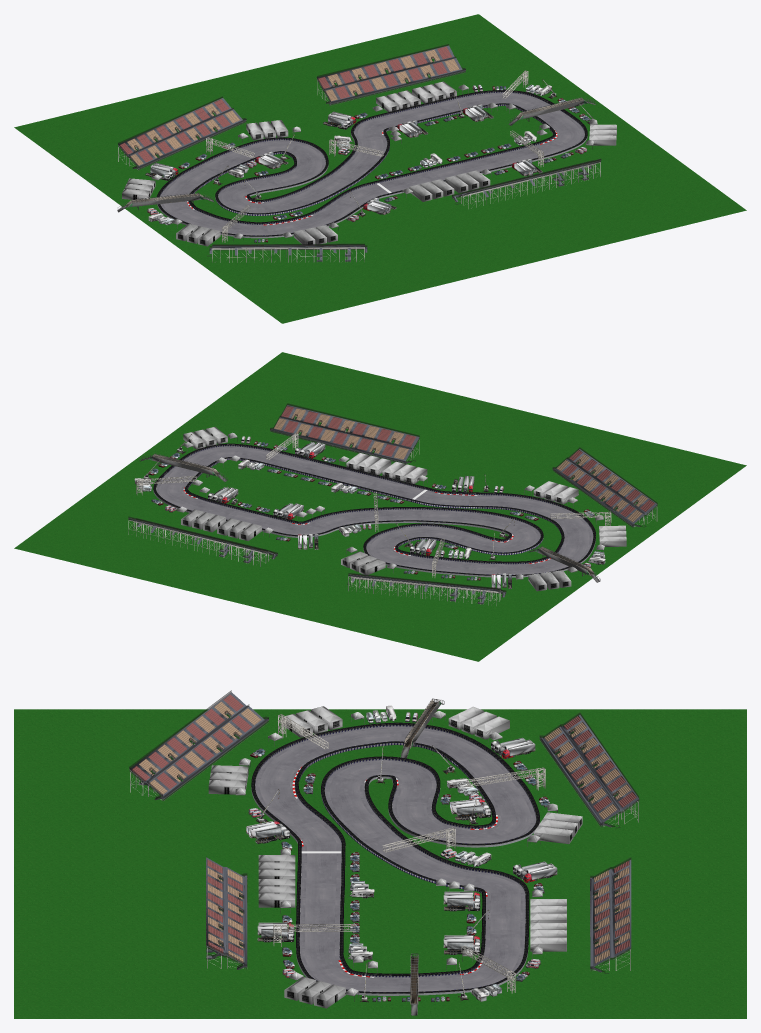
The model's file is track.glb.
The picture shows the model from 3 angles, top to bottom: view 1: azimuth 30°, elevation 25°; view 2: azimuth 150°, elevation 25°; view 3: azimuth 270°, elevation 25°; orthographic projection. The views are drawn at different scales.
Visible parts, largest first — view 1: Object_9, Object_5, Object_13, Object_7, Object_15, Object_2, Object_10, Object_14, Object_12, Object_6, Object_8; view 2: Object_9, Object_5, Object_13, Object_7, Object_15, Object_10, Object_2, Object_14, Object_12, Object_6, Object_8; view 3: Object_9, Object_5, Object_13, Object_7, Object_10, Object_15, Object_2, Object_12, Object_6, Object_8, Object_16, Object_3 (+1 smaller).
Boxes of the visible parts, x1=… form: Object_9: x1=14, y1=14, x2=746, y2=323; Object_5: x1=160, y1=92, x2=584, y2=235; Object_13: x1=118, y1=44, x2=601, y2=261; Object_7: x1=122, y1=81, x2=616, y2=246; Object_15: x1=156, y1=90, x2=587, y2=236; Object_2: x1=145, y1=84, x2=590, y2=242; Object_10: x1=118, y1=45, x2=600, y2=261; Object_14: x1=118, y1=60, x2=600, y2=262; Object_12: x1=206, y1=70, x2=543, y2=242; Object_6: x1=117, y1=97, x2=595, y2=212; Object_8: x1=157, y1=133, x2=587, y2=238; Object_9: x1=14, y1=352, x2=746, y2=661; Object_5: x1=156, y1=446, x2=593, y2=574; Object_13: x1=128, y1=403, x2=657, y2=604; Object_7: x1=177, y1=427, x2=626, y2=591; Object_15: x1=153, y1=443, x2=595, y2=575; Object_10: x1=128, y1=405, x2=657, y2=604; Object_2: x1=134, y1=441, x2=605, y2=589; Object_14: x1=128, y1=417, x2=657, y2=605; Object_12: x1=136, y1=433, x2=611, y2=577; Object_6: x1=139, y1=453, x2=600, y2=582; Object_8: x1=153, y1=490, x2=595, y2=577; Object_9: x1=14, y1=709, x2=746, y2=1018; Object_5: x1=255, y1=726, x2=536, y2=991; Object_13: x1=129, y1=690, x2=639, y2=973; Object_7: x1=208, y1=706, x2=582, y2=1008; Object_10: x1=129, y1=692, x2=639, y2=972; Object_15: x1=251, y1=722, x2=539, y2=993; Object_2: x1=246, y1=705, x2=557, y2=1002; Object_12: x1=273, y1=714, x2=545, y2=993; Object_6: x1=400, y1=698, x2=444, y2=1015; Object_8: x1=251, y1=776, x2=539, y2=995; Object_16: x1=256, y1=744, x2=489, y2=1002; Object_3: x1=248, y1=712, x2=540, y2=978.
Bounding box in the file's own units: 349 × 19.44 × 342.
15 materials, 15 textured.
